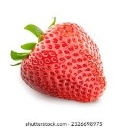strawberry: (15, 19, 108, 103)
